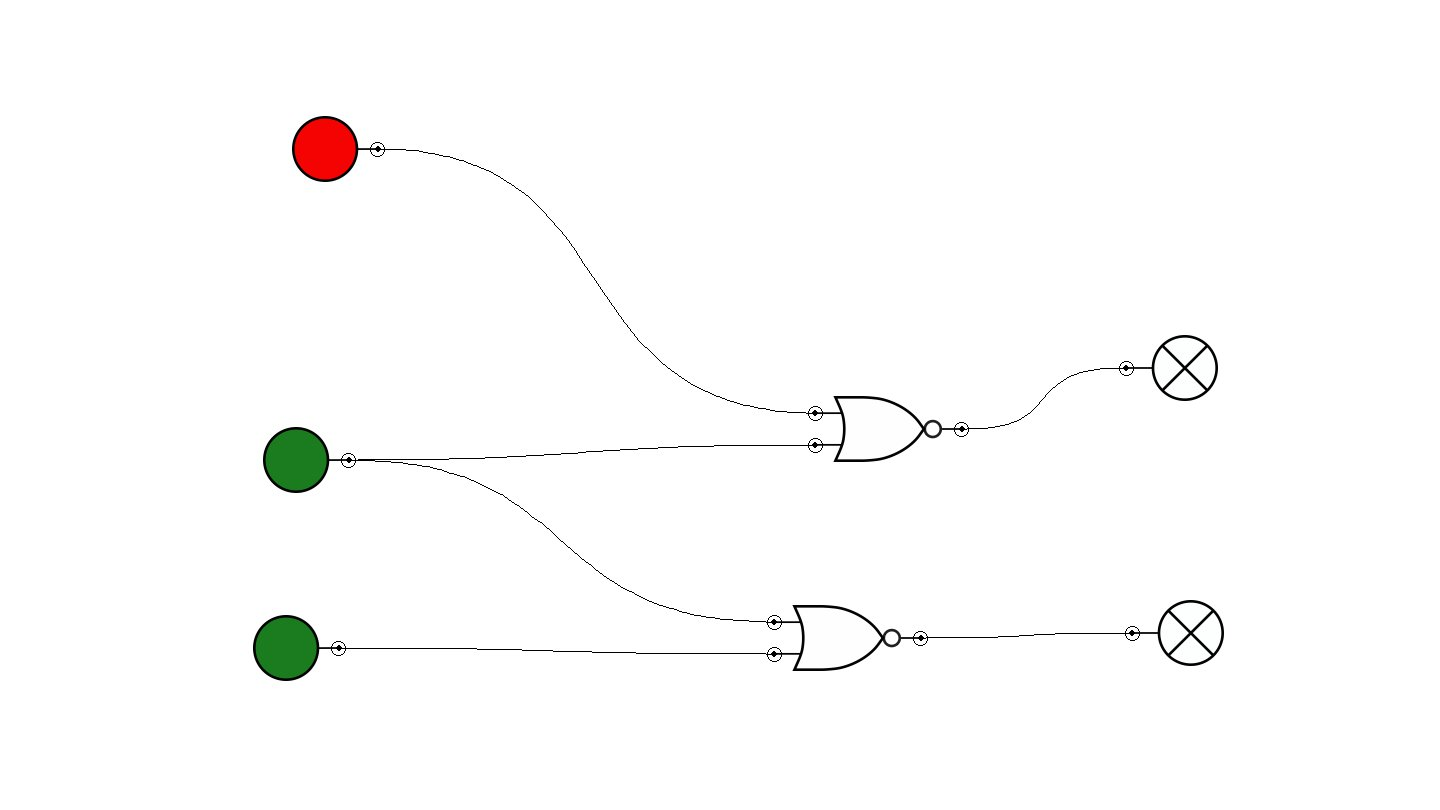bulb: (1125, 600, 1224, 666), (1119, 335, 1218, 401)
nor: (808, 396, 969, 462), (767, 605, 928, 671)
switch_False: (292, 116, 385, 182)
switch_True: (253, 615, 346, 681), (263, 427, 356, 493)
